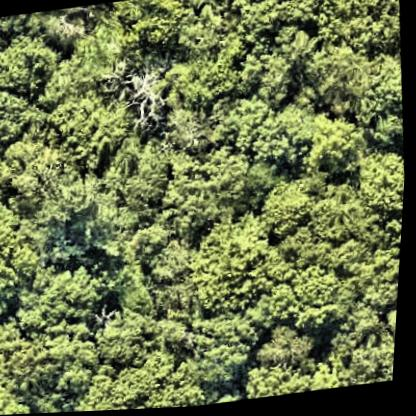tree-top: (267, 169, 407, 340), (184, 210, 295, 332), (27, 147, 124, 252), (159, 145, 262, 238), (0, 320, 90, 416), (82, 353, 215, 412), (19, 260, 115, 334), (156, 47, 247, 121), (281, 107, 369, 181), (305, 33, 383, 116), (40, 37, 128, 105), (317, 0, 405, 68), (249, 325, 329, 398), (49, 95, 129, 166), (0, 182, 50, 295), (349, 58, 409, 152), (0, 50, 49, 164), (191, 308, 265, 383), (92, 299, 168, 367), (255, 177, 323, 245), (164, 98, 238, 160), (229, 0, 347, 36), (106, 0, 186, 52), (354, 302, 401, 386), (354, 149, 408, 219), (238, 53, 298, 113), (233, 108, 286, 161), (34, 5, 104, 44), (123, 64, 172, 115), (145, 240, 196, 286)
